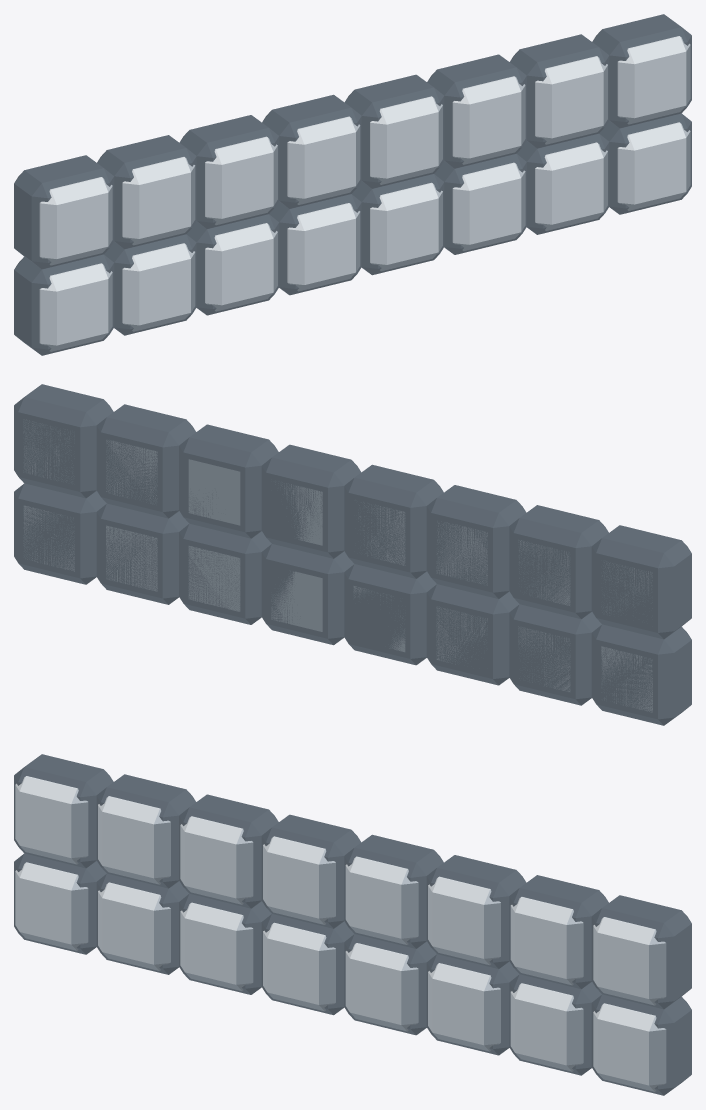
File: Terrain_Block8x2.gltf
3 renders of one model, top to bottom at view 1: azimuth 30°, elevation 25°; view 2: azimuth 150°, elevation 25°; view 3: azimuth 330°, elevation 25°, orthographic.
Parts seen in each view (by area): view 1: Terrain_Block8x2_baked; view 2: Terrain_Block8x2_baked; view 3: Terrain_Block8x2_baked.
Part boxes in pixels (<box>): Terrain_Block8x2_baked: <box>14,14,691,355</box>; Terrain_Block8x2_baked: <box>14,384,691,725</box>; Terrain_Block8x2_baked: <box>14,754,691,1095</box>.
Bounding box in the file's own units: 8 × 2 × 0.7.
